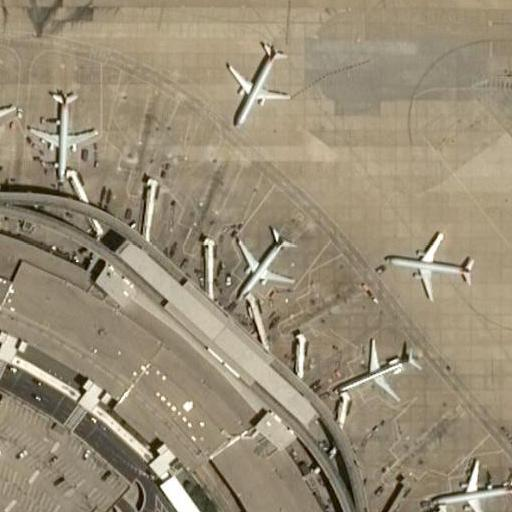Aircraft: (382, 222, 481, 300), (25, 87, 99, 177), (220, 39, 291, 132), (330, 336, 425, 401), (423, 454, 512, 512), (230, 225, 295, 297), (0, 64, 14, 155)
